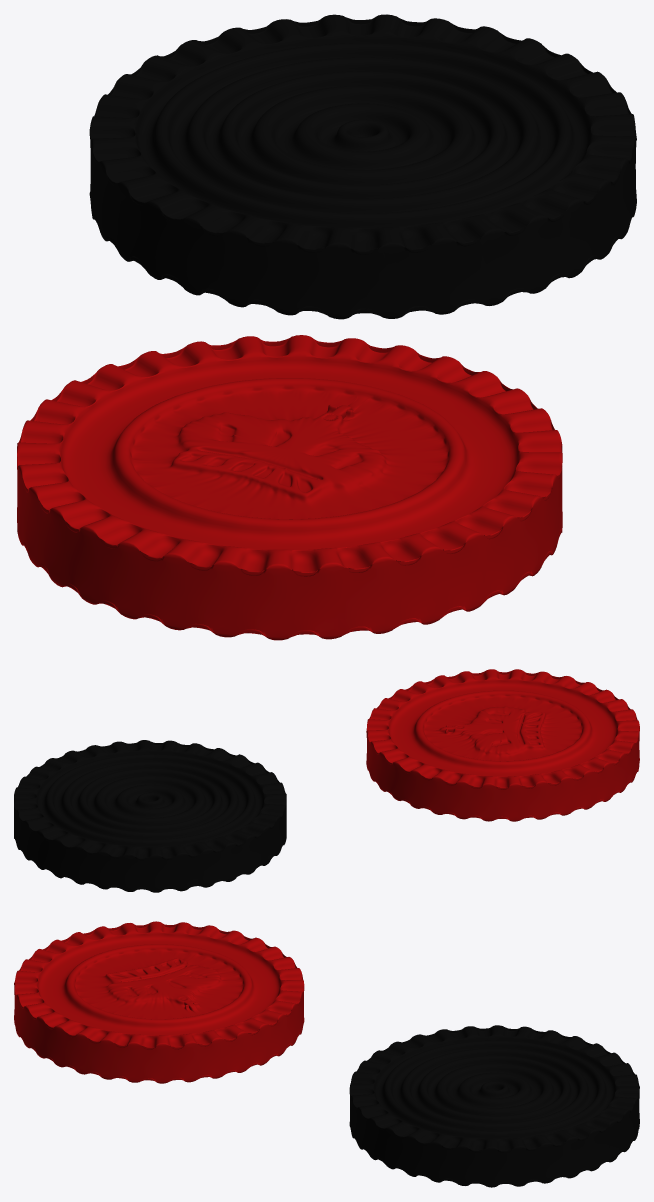
File: checkers_piece.fbx
The picture shows the model from 3 angles, top to bottom: view 1: azimuth 30°, elevation 25°; view 2: azimuth 150°, elevation 25°; view 3: azimuth 270°, elevation 25°; orthographic projection. The views are drawn at different scales.
Parts seen in each view (by area): view 1: checker_pieceblack, checker_piecered; view 2: checker_piecered, checker_pieceblack; view 3: checker_pieceblack, checker_piecered.
Part boxes in pixels (left/top/right/bottom): checker_pieceblack: left=89, top=14, right=636, bottom=319; checker_piecered: left=17, top=335, right=562, bottom=640; checker_piecered: left=366, top=669, right=639, bottom=821; checker_pieceblack: left=14, top=740, right=286, bottom=892; checker_pieceblack: left=349, top=1025, right=639, bottom=1187; checker_piecered: left=14, top=921, right=304, bottom=1083.
Size of the model in its own units: 0.5515 by 0.0507 by 0.6524.
